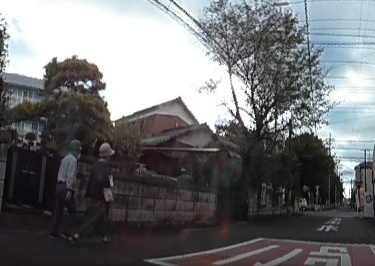person: (77, 143, 115, 243), (49, 136, 84, 237)
